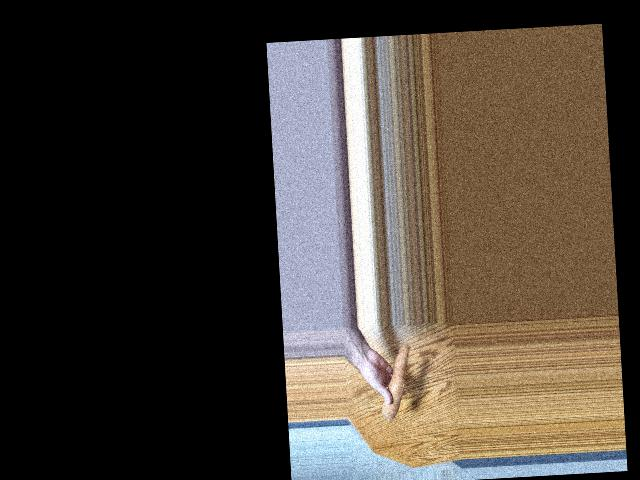sweet_potato: (382, 340, 407, 420)
